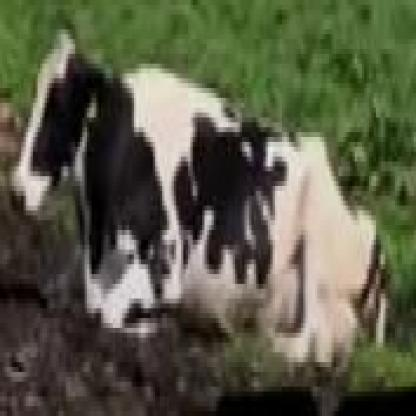cow: (8, 22, 389, 370)
